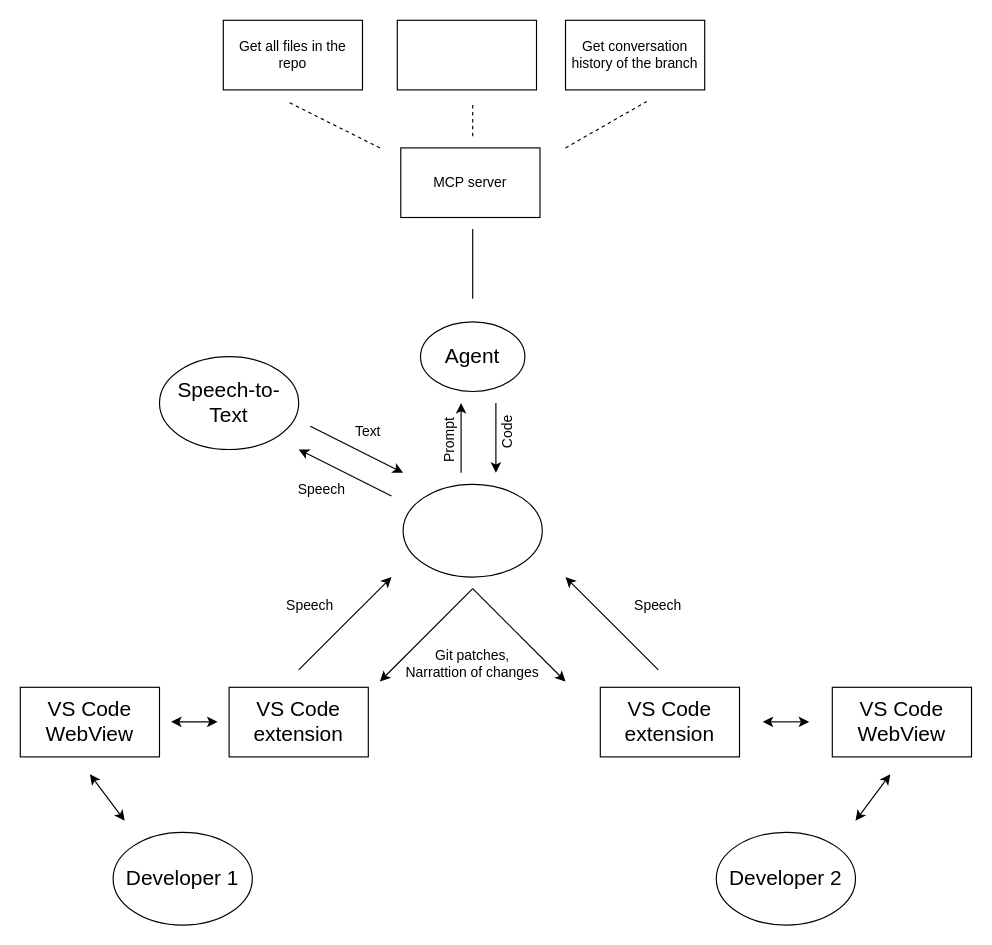
Some shapes in this 992 by 945 pixel diagram are drawn without their labels. Here are the shapes that lost their labels. From the top down, the box of each, then its label:
(396, 19, 536, 90): Get the content of the file
(402, 483, 542, 577): Backend Server
